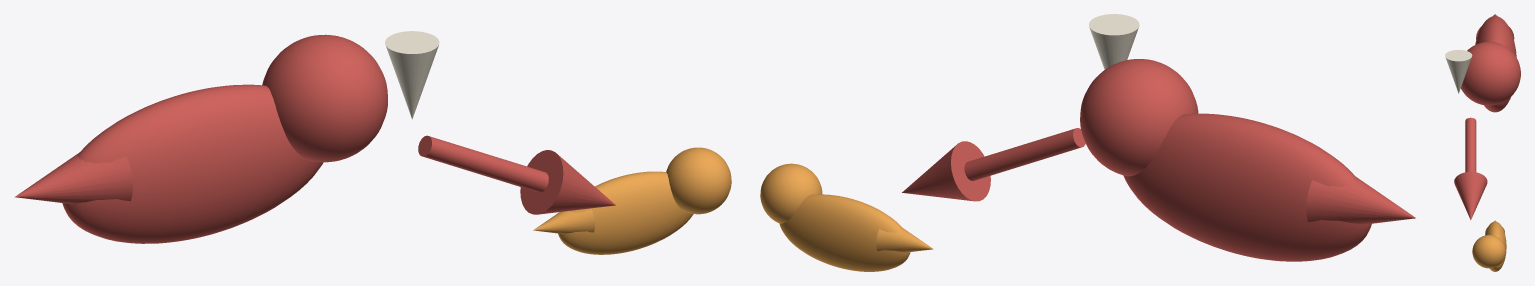
Rendered from bio-p1-predator.glb.
3 views of the same model, side by side, from view 1: azimuth 30°, elevation 25°; view 2: azimuth 150°, elevation 25°; view 3: azimuth 270°, elevation 25° (orthographic). The views are drawn at different scales.
Parts seen in each view (by area): view 1: predator-hunter-body, predator-hunter-head, prey-target-body, predator-hunter-tail, prey-target-head, hunt-direction-arrow-head, hunt-direction-arrow-shaft, predator-sharp-tooth-cue, prey-target-tail; view 2: predator-hunter-body, predator-hunter-head, prey-target-body, predator-hunter-tail, hunt-direction-arrow-head, hunt-direction-arrow-shaft, prey-target-head, predator-sharp-tooth-cue, prey-target-tail; view 3: predator-hunter-head, predator-hunter-body, hunt-direction-arrow-head, prey-target-head, predator-sharp-tooth-cue, hunt-direction-arrow-shaft, prey-target-body.
Part boxes in pixels (<box>): predator-hunter-body: <box>62,84,323,243</box>; predator-hunter-head: <box>262,34,387,162</box>; prey-target-body: <box>558,171,693,254</box>; predator-hunter-tail: <box>14,152,132,203</box>; prey-target-head: <box>666,147,731,214</box>; hunt-direction-arrow-head: <box>520,150,615,214</box>; hunt-direction-arrow-shaft: <box>418,135,548,192</box>; predator-sharp-tooth-cue: <box>385,31,439,119</box>; prey-target-tail: <box>533,209,594,233</box>; predator-hunter-body: <box>1123,113,1371,261</box>; predator-hunter-head: <box>1080,59,1198,176</box>; prey-target-body: <box>779,194,910,271</box>; predator-hunter-tail: <box>1306,177,1415,224</box>; hunt-direction-arrow-head: <box>902,141,990,201</box>; hunt-direction-arrow-shaft: <box>964,128,1085,180</box>; prey-target-head: <box>760,163,822,223</box>; predator-sharp-tooth-cue: <box>1089,14,1139,69</box>; prey-target-tail: <box>876,227,933,252</box>; predator-hunter-head: <box>1461,42,1520,105</box>; predator-hunter-body: <box>1475,16,1516,112</box>; hunt-direction-arrow-head: <box>1454,171,1487,220</box>; prey-target-head: <box>1472,235,1505,268</box>; predator-sharp-tooth-cue: <box>1445,50,1472,93</box>; hunt-direction-arrow-shaft: <box>1465,117,1476,172</box>; prey-target-body: <box>1485,221,1506,271</box>.
Size of what is drawn, in the model's own units: 1.34 by 0.5373 by 0.25.
